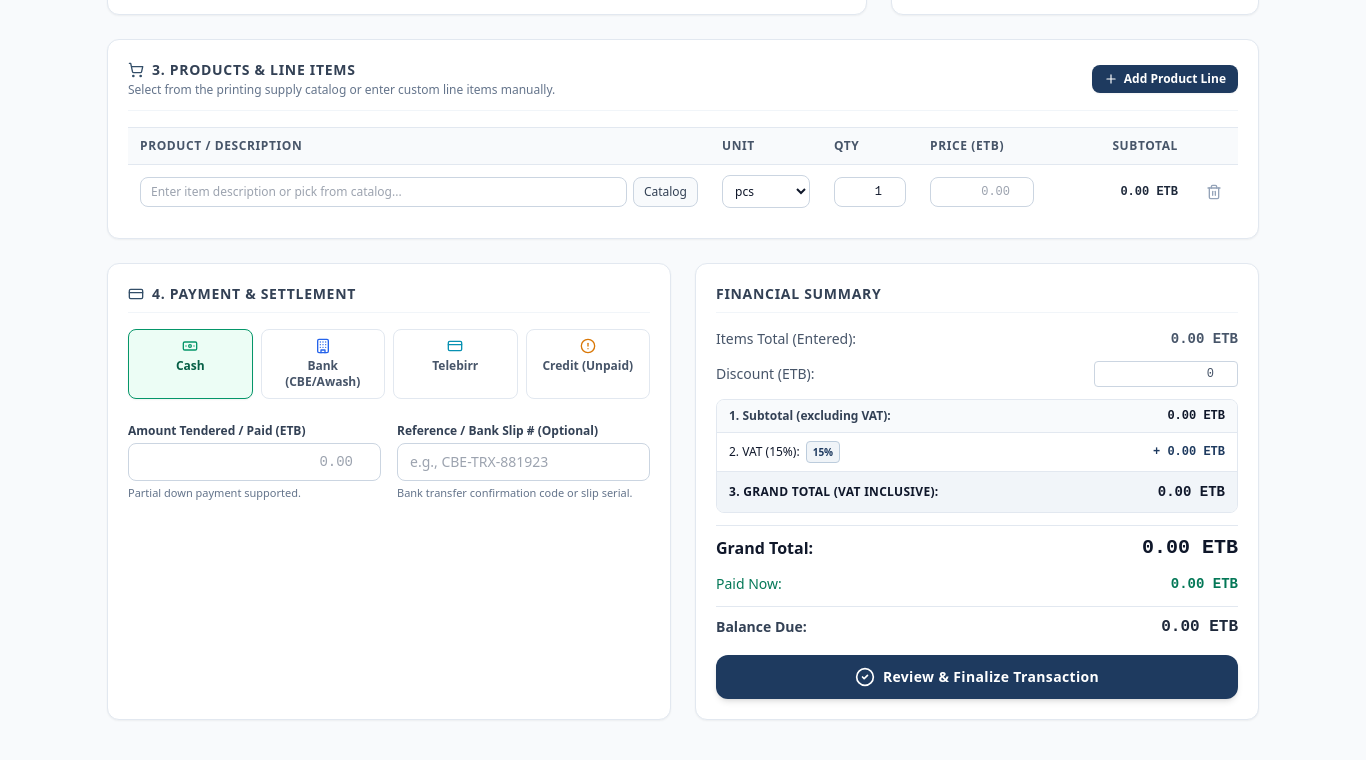
Test case: NewSalePage Component › validates mandatory FS Number before allowing review modal
(page scrolled)
Click the button "Review & Finalize Transaction": (977, 677) [716,655,1238,699]
(page scrolled)
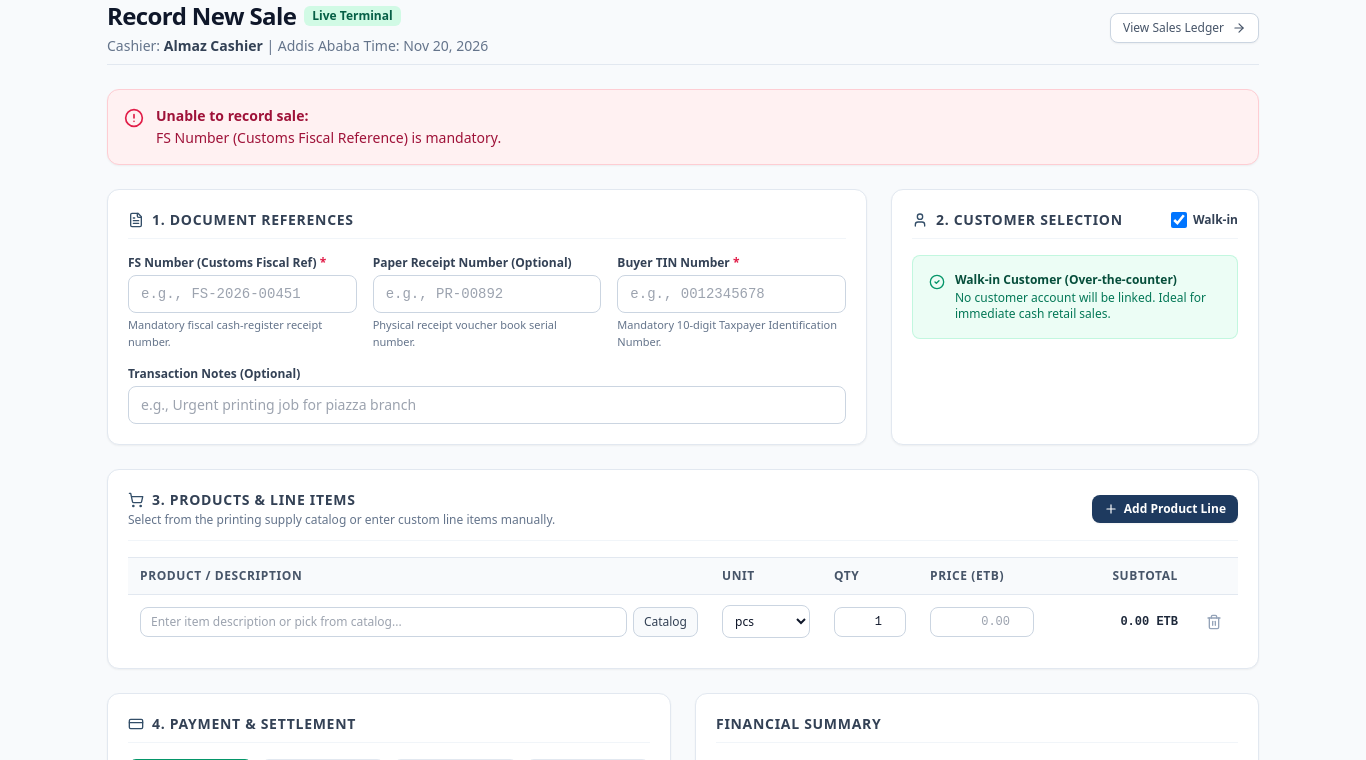
Expected: the text "FS Number (Customs Fiscal Reference) is mandatory." is shown, [156,128,501,148]
